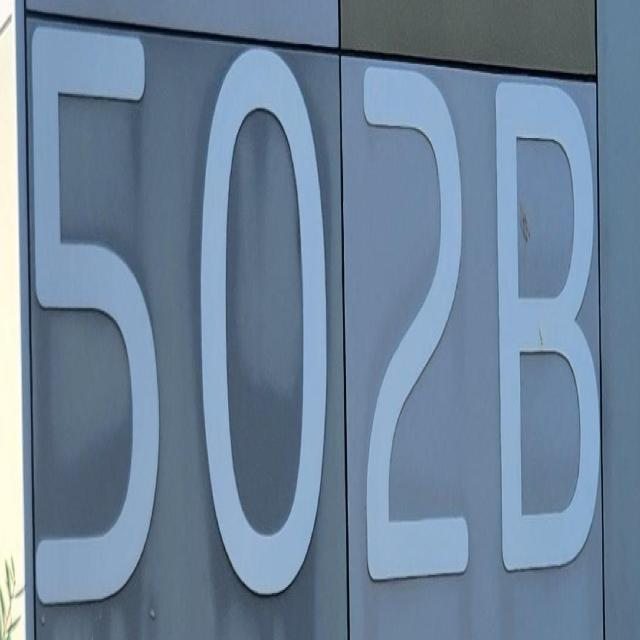character: (28, 15, 164, 612), (197, 39, 330, 606), (358, 61, 476, 592), (490, 76, 604, 580)
